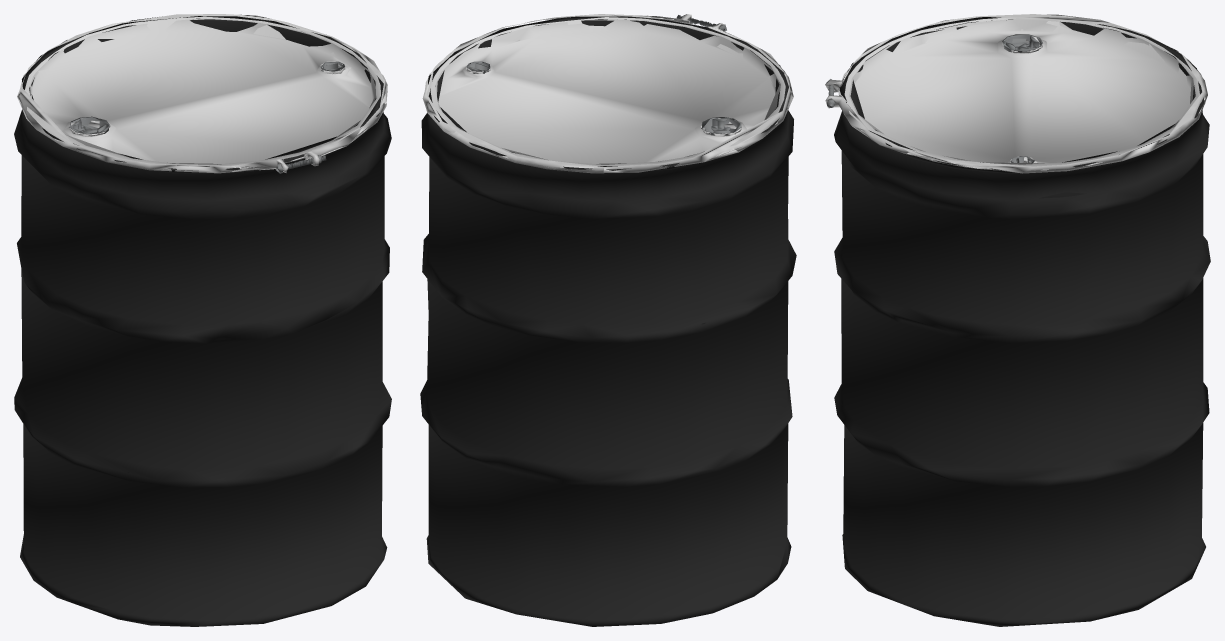
The model's file is drum.glb.
3 views of the same model, side by side, from view 1: azimuth 30°, elevation 25°; view 2: azimuth 150°, elevation 25°; view 3: azimuth 270°, elevation 25° (orthographic).
Visible parts, largest first — view 1: sm_drum_a01_mesh_00, sm_lid_a01_mesh_00; view 2: sm_drum_a01_mesh_00, sm_lid_a01_mesh_00; view 3: sm_drum_a01_mesh_00, sm_lid_a01_mesh_00.
Boxes of the visible parts, x1,y1,x2,y2 form: sm_drum_a01_mesh_00: [14, 16, 391, 626]; sm_lid_a01_mesh_00: [17, 14, 387, 173]; sm_drum_a01_mesh_00: [420, 16, 796, 626]; sm_lid_a01_mesh_00: [422, 14, 793, 173]; sm_drum_a01_mesh_00: [834, 17, 1210, 626]; sm_lid_a01_mesh_00: [825, 14, 1207, 173].
Bounding box in the file's own units: 0.6412 × 0.8675 × 0.6561.
Materials: 4 (2 with a texture image).
